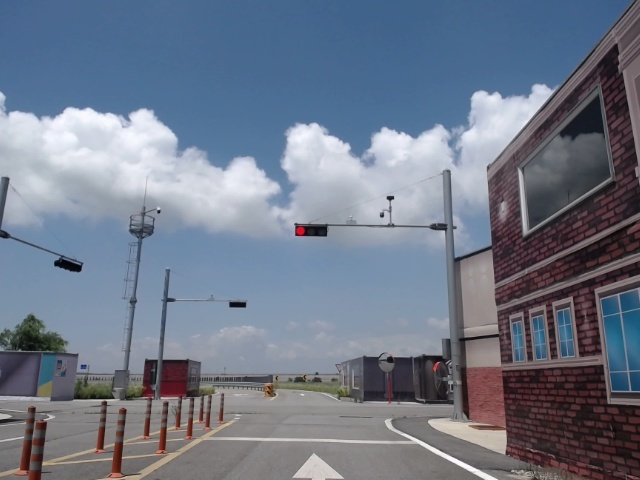red_3: (293, 222, 329, 237)
